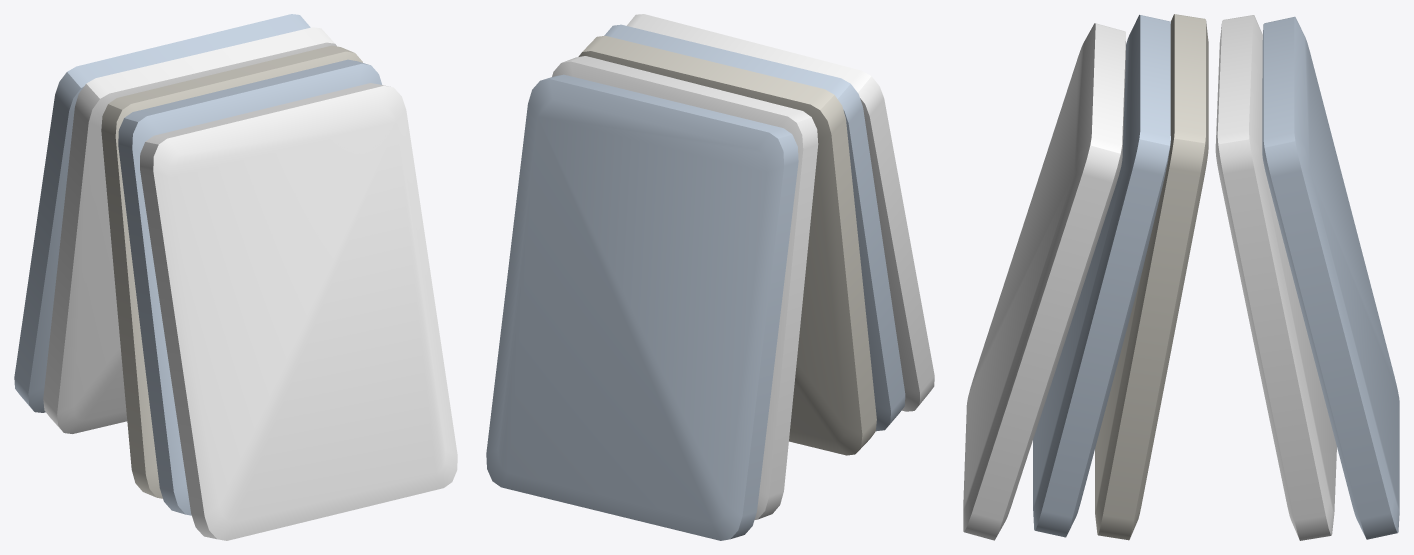
The model's file is Mattresshide.fbx.
3 renders of one model, left to right at view 1: azimuth 30°, elevation 25°; view 2: azimuth 150°, elevation 25°; view 3: azimuth 270°, elevation 25°, orthographic. The views are drawn at different scales.
Visible parts, largest first — view 1: Cube.030; view 2: Cube.030; view 3: Cube.030.
Part boxes in pixels (left/top/right/bottom): Cube.030: left=14, top=14, right=457, bottom=540; Cube.030: left=486, top=14, right=934, bottom=540; Cube.030: left=963, top=14, right=1399, bottom=540.
Size of the model in its own units: 141 by 200 by 193.
